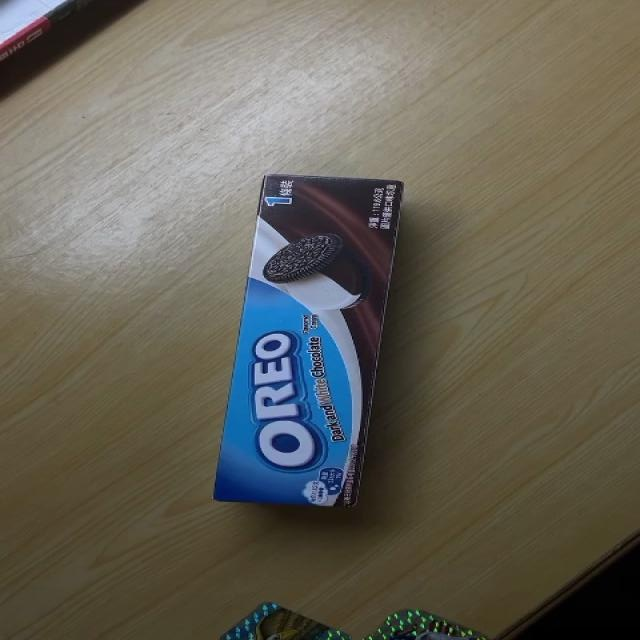Oreo: (212, 173, 407, 511)
